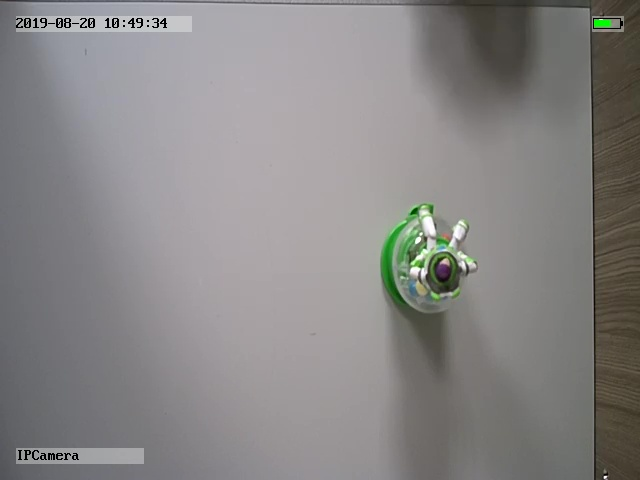buzz: (377, 201, 480, 324)
